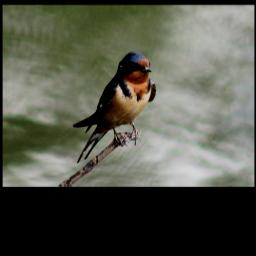Swallow: (75, 51, 159, 164)
